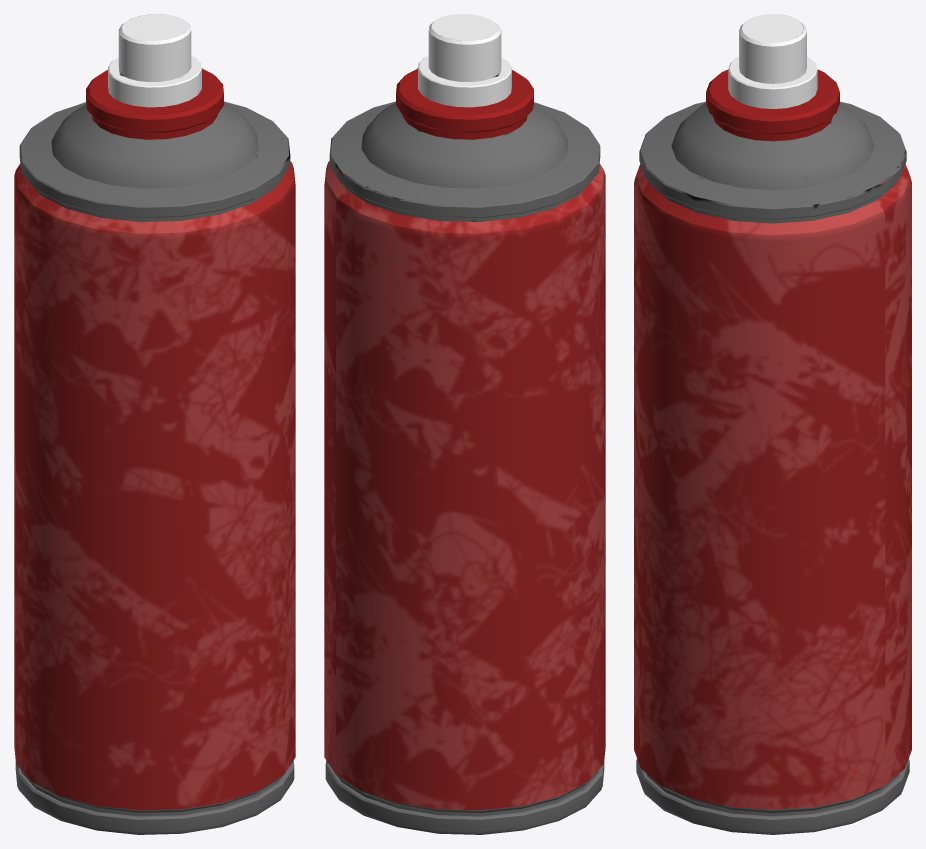
The model's file is Spray_can_02 (1).fbx.
The picture shows the model from 3 angles, left to right: view 1: azimuth 30°, elevation 25°; view 2: azimuth 150°, elevation 25°; view 3: azimuth 270°, elevation 25°; orthographic projection.
Parts seen in each view (by area): view 1: pCylinder1; view 2: pCylinder1; view 3: pCylinder1.
Boxes of the visible parts, x1,y1,x2,y2 form: pCylinder1: [14, 14, 295, 834]; pCylinder1: [324, 14, 605, 834]; pCylinder1: [634, 14, 911, 834].
Size of the model in its own units: 8.43 by 24.52 by 8.24.
Materials: 1 (1 with a texture image).
